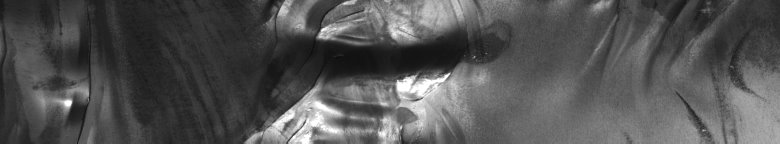ke: (251, 4, 476, 136)
